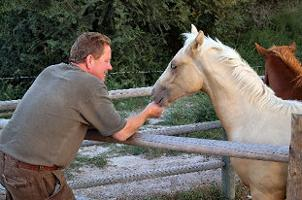person: (2, 31, 165, 200)
